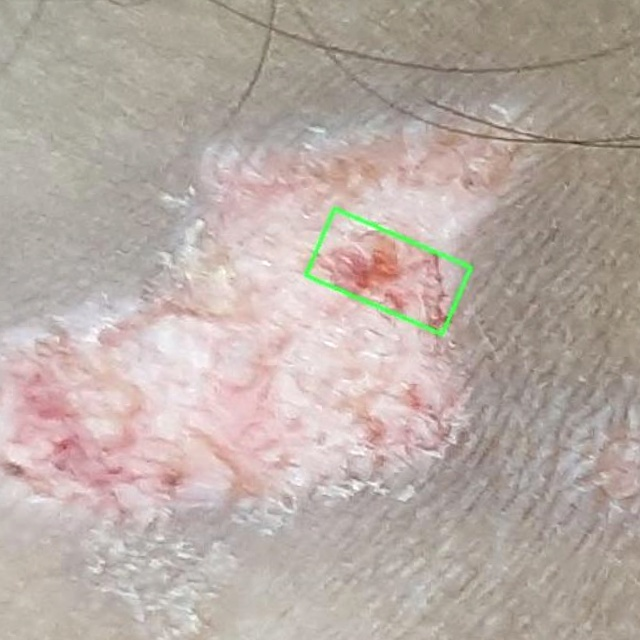Eczema: (306, 209, 471, 334)
